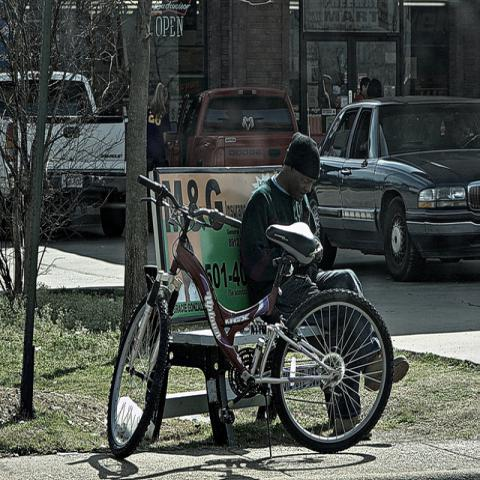car: (315, 96, 479, 282), (43, 114, 172, 241), (165, 87, 301, 167)
truck: (0, 70, 128, 245)
